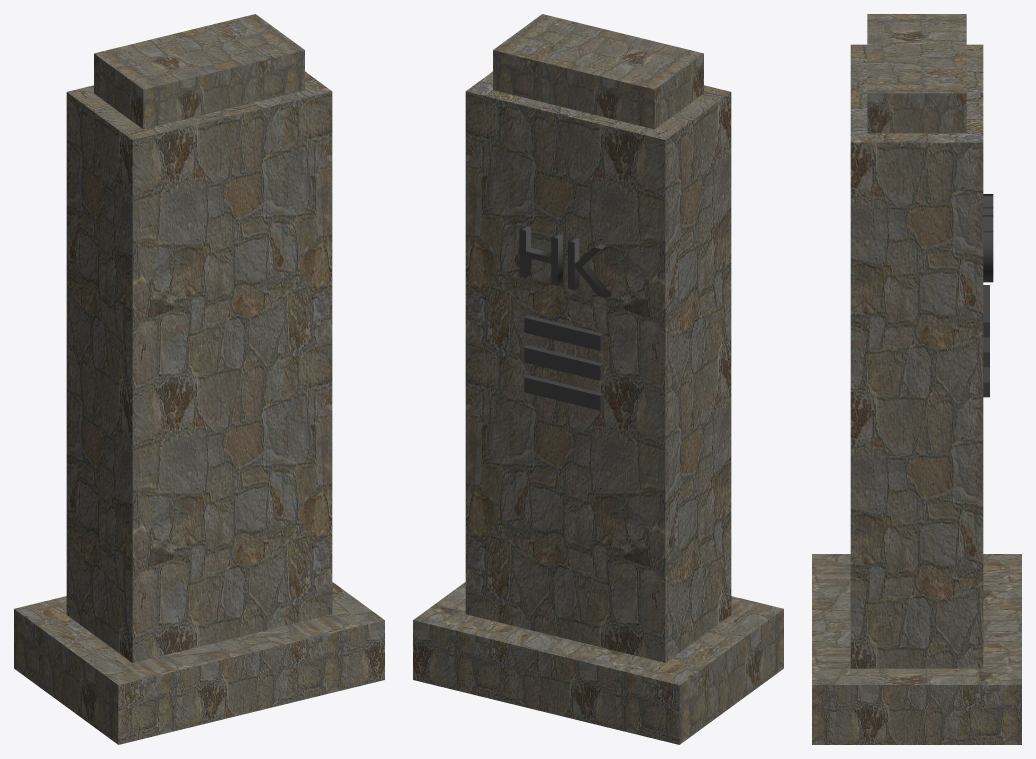
Rendered from prop_waystone.glb.
The picture shows the model from 3 angles, left to right: view 1: azimuth 30°, elevation 25°; view 2: azimuth 150°, elevation 25°; view 3: azimuth 270°, elevation 25°; orthographic projection.
Visible parts, largest first — view 1: prop_waystone; view 2: prop_waystone; view 3: prop_waystone.
Part boxes in pixels (x1,y1,x2,y2): prop_waystone: (14,14,384,744); prop_waystone: (413,14,783,744); prop_waystone: (812,14,1021,744).
Size of the model in its own units: 0.56 by 1.25 by 0.38.
Materials: 2 (1 with a texture image).
